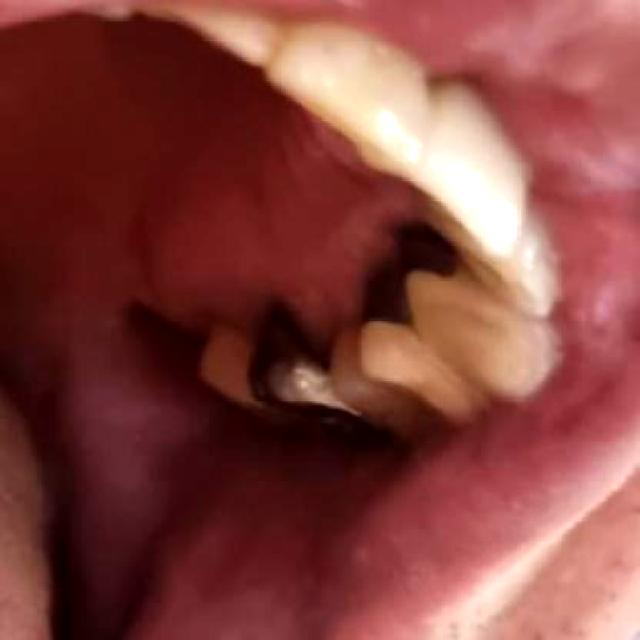Plaque: (246, 262, 373, 357)
